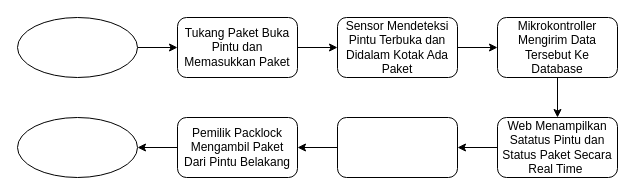
Some shapes in this 635 by 195 pixel diagram are drawn without their labels. Here are the shapes that lost their labels. From the top down, the centre of each, then its label:
point 77,47: Start
point 77,147: Stop
point 397,147: Pemilik Packlock Melihat Web dan Statusnya "Ada"
